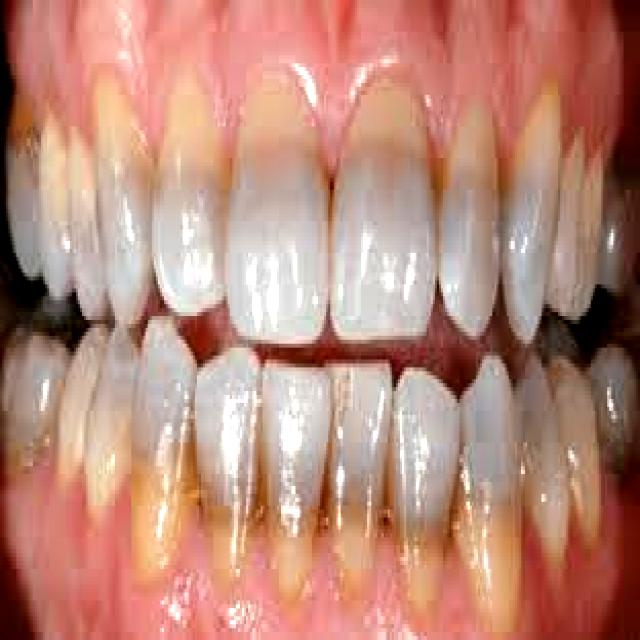tooth-discoloration: (330, 79, 435, 340), (226, 71, 326, 340), (453, 356, 519, 628), (152, 75, 226, 312), (131, 316, 195, 577), (392, 367, 457, 600), (503, 83, 560, 340), (195, 348, 258, 577), (439, 103, 498, 332), (330, 363, 390, 565), (263, 360, 328, 533), (521, 356, 568, 561), (86, 324, 137, 510)
